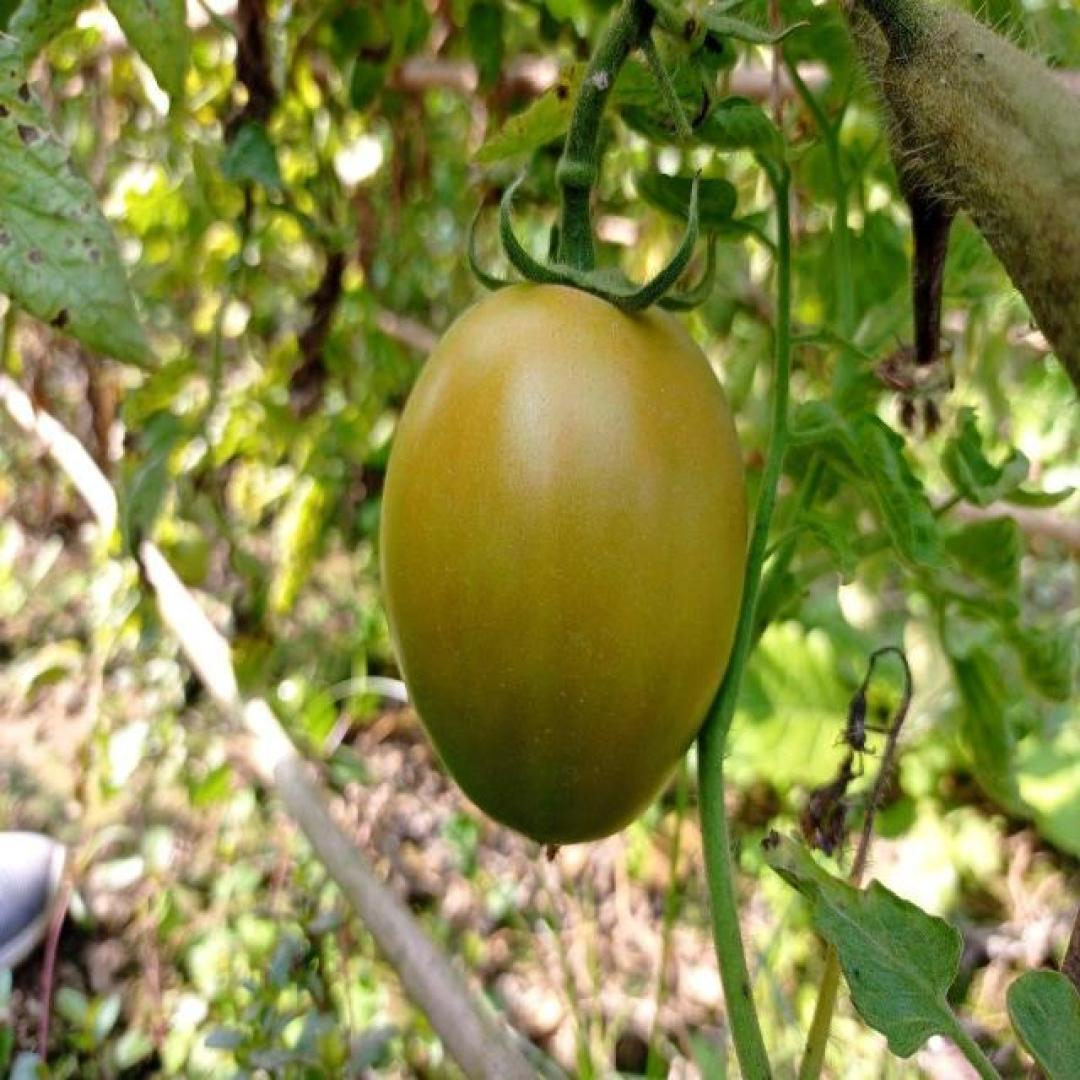setengah_matang: (376, 267, 751, 846)
